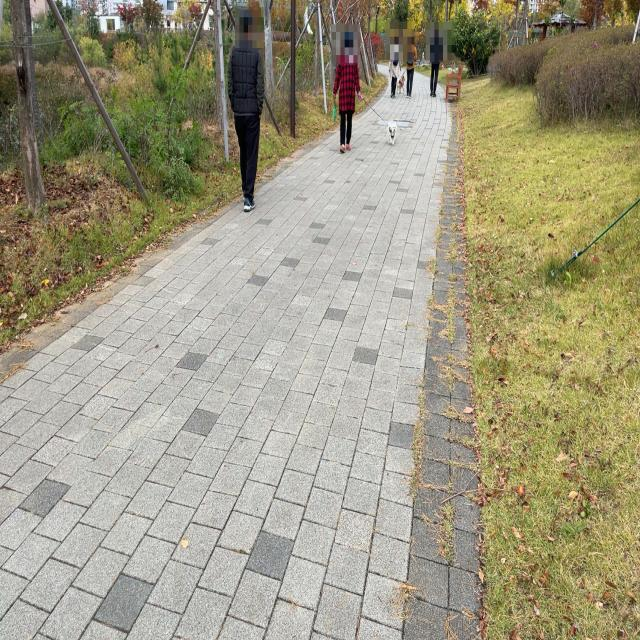Leashed_Dog: (347, 86, 398, 146)
